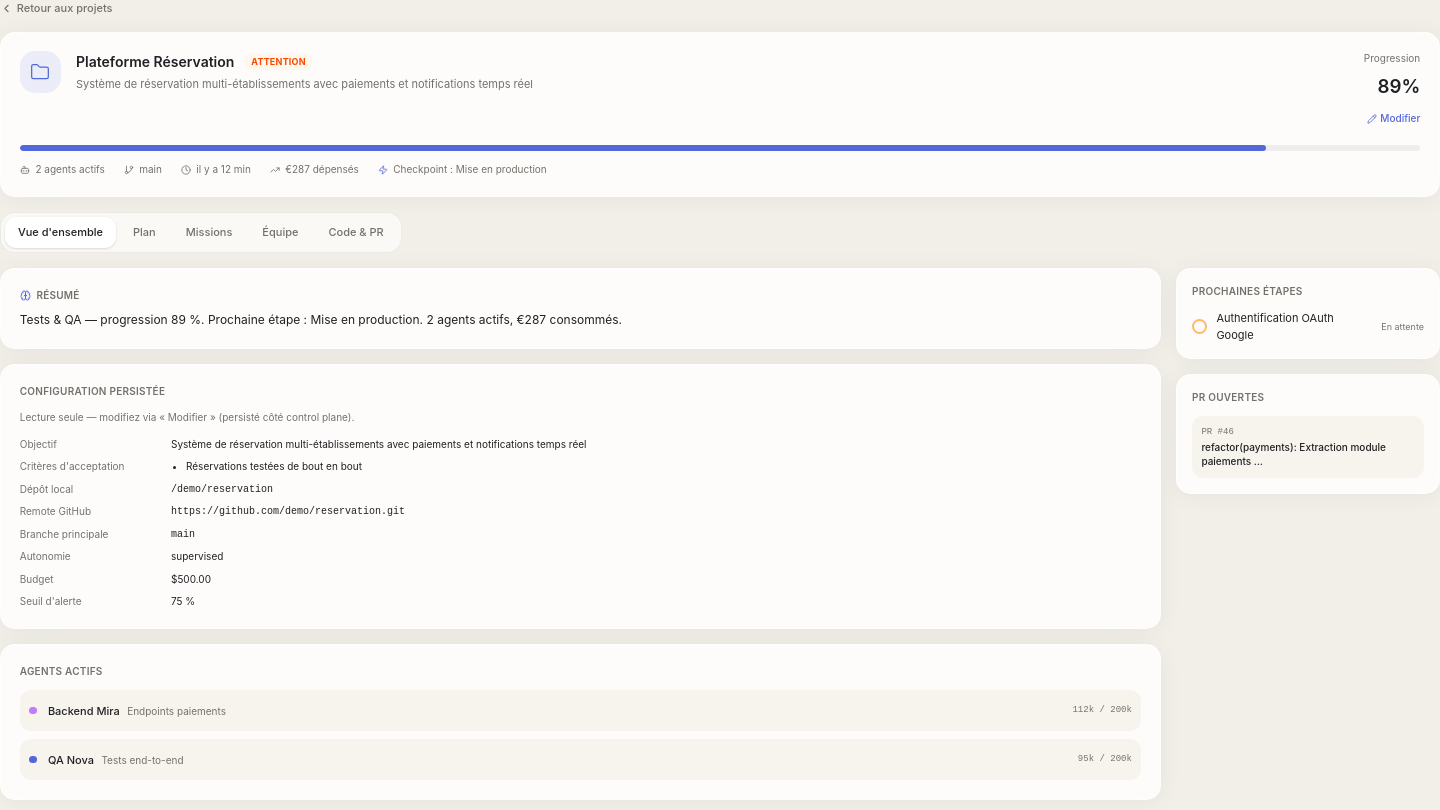
it: project data isolation › filters the missions tab by project
Click the button "Missions".
click(209, 232)  # box [173, 217, 246, 248]
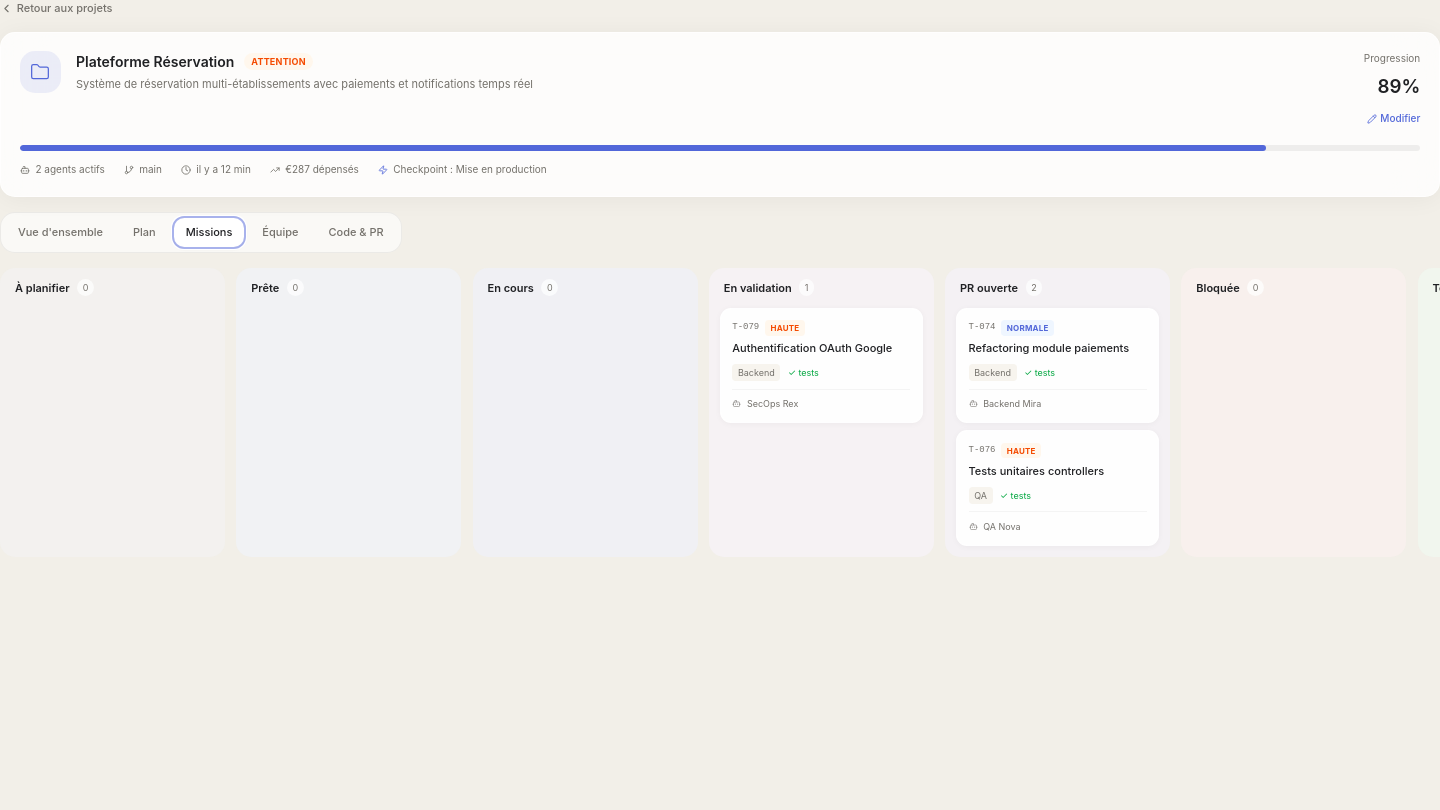
Now the text "Refactoring module paiements" is shown, box [968, 341, 1146, 356]
